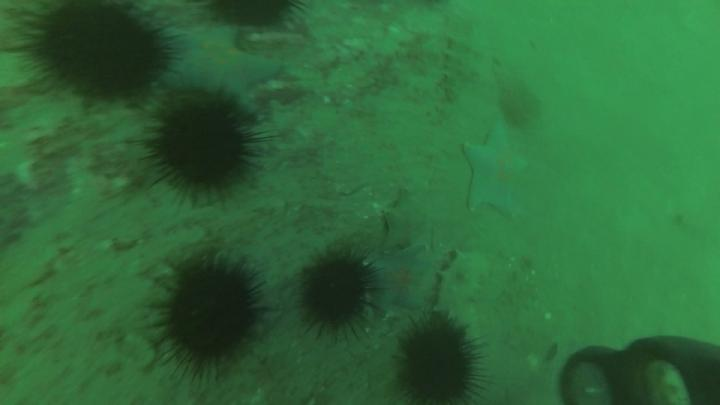echinus: (40, 8, 169, 95), (163, 268, 257, 363), (157, 107, 248, 184), (402, 324, 477, 402), (303, 259, 369, 329)
holothurian: (438, 250, 489, 323), (446, 33, 468, 100)
starfish: (160, 25, 280, 105), (463, 119, 529, 217), (377, 248, 432, 311), (383, 192, 428, 248)
